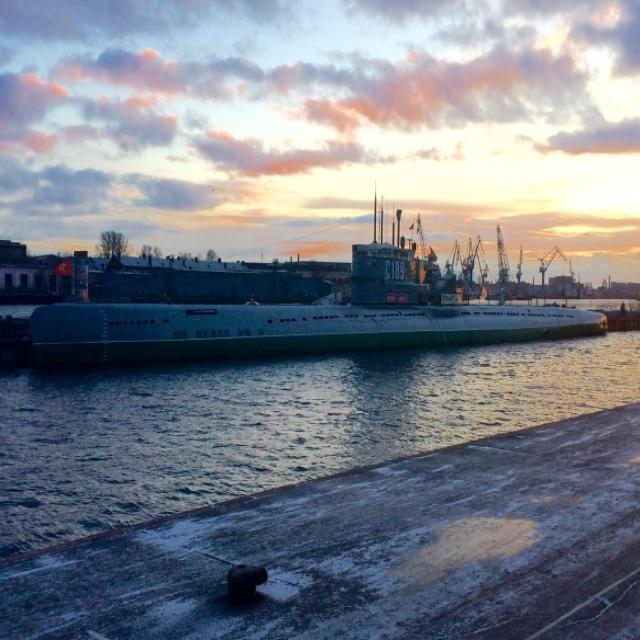submarine: (30, 249, 608, 347)
